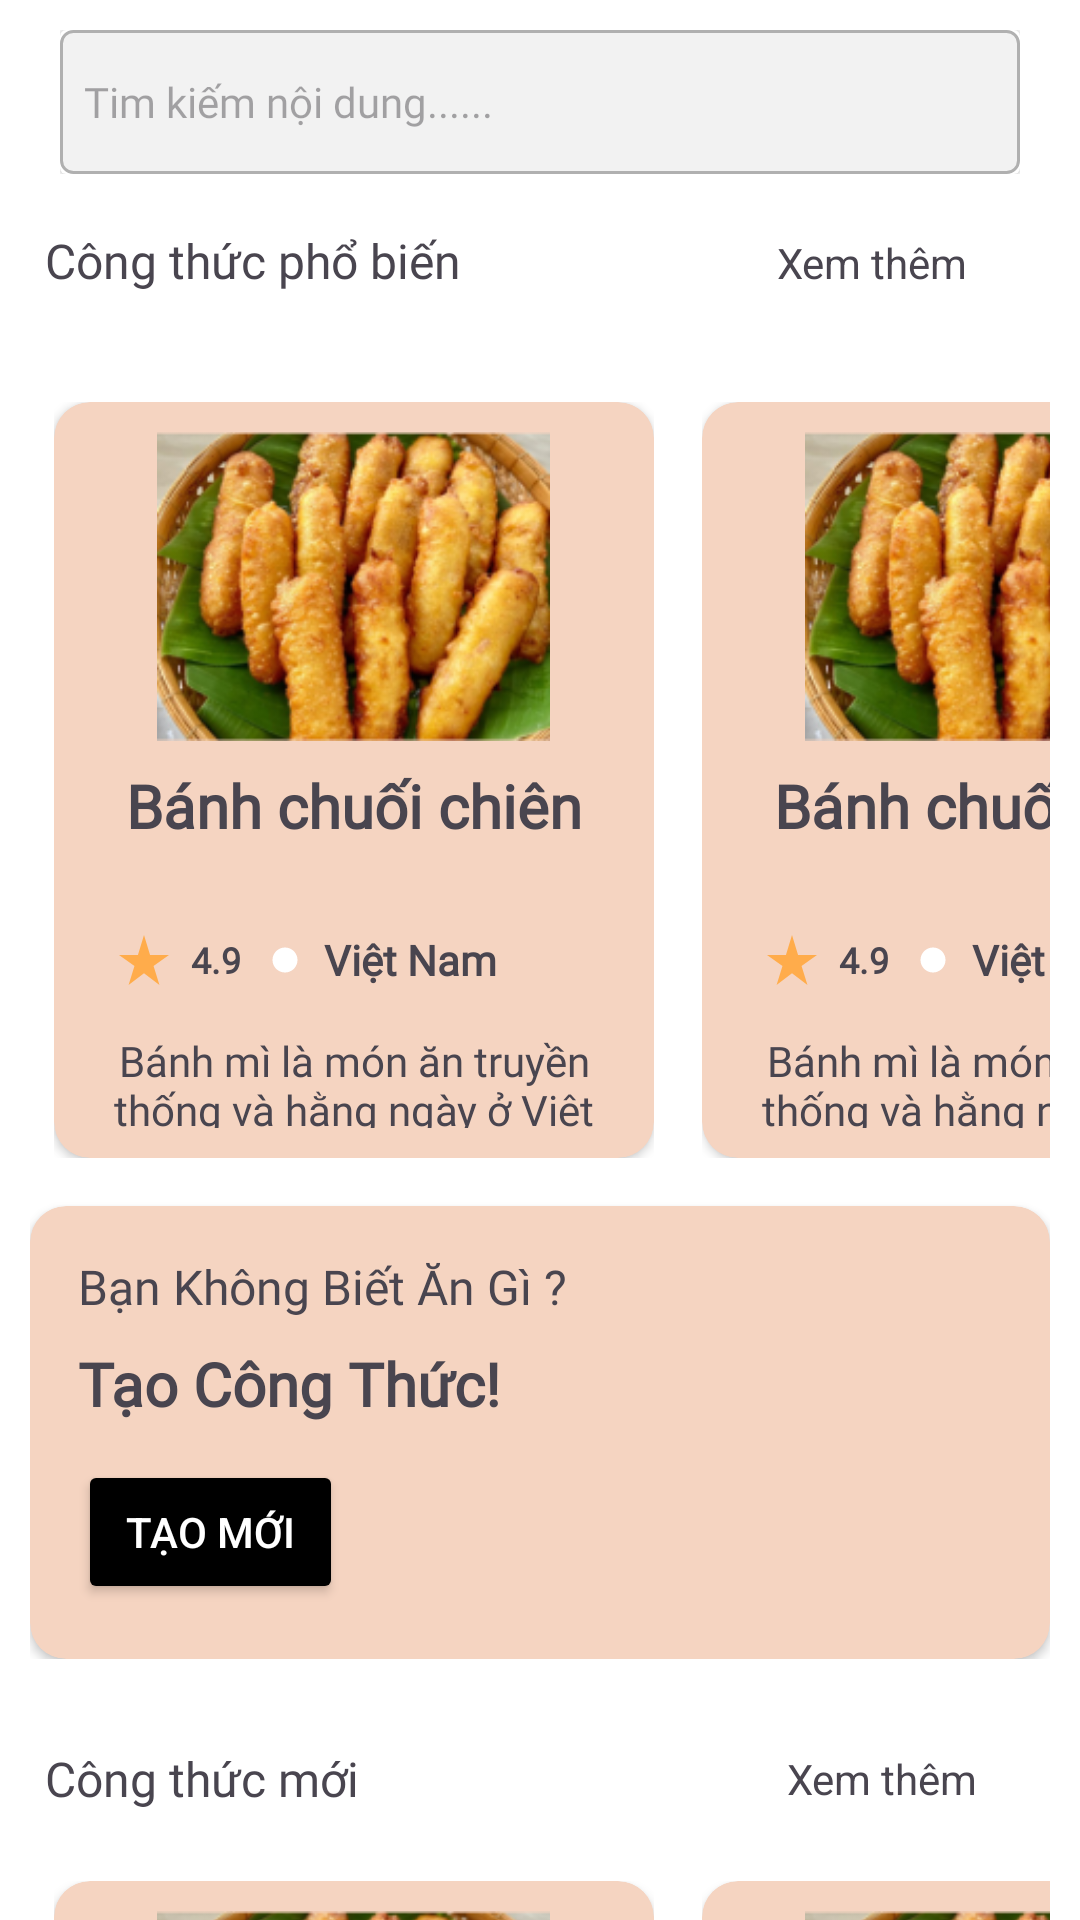

Icons on this 1080*1920 Android screen, each with the point to tap as [x,y]:
star: [144,960], [792,960]
